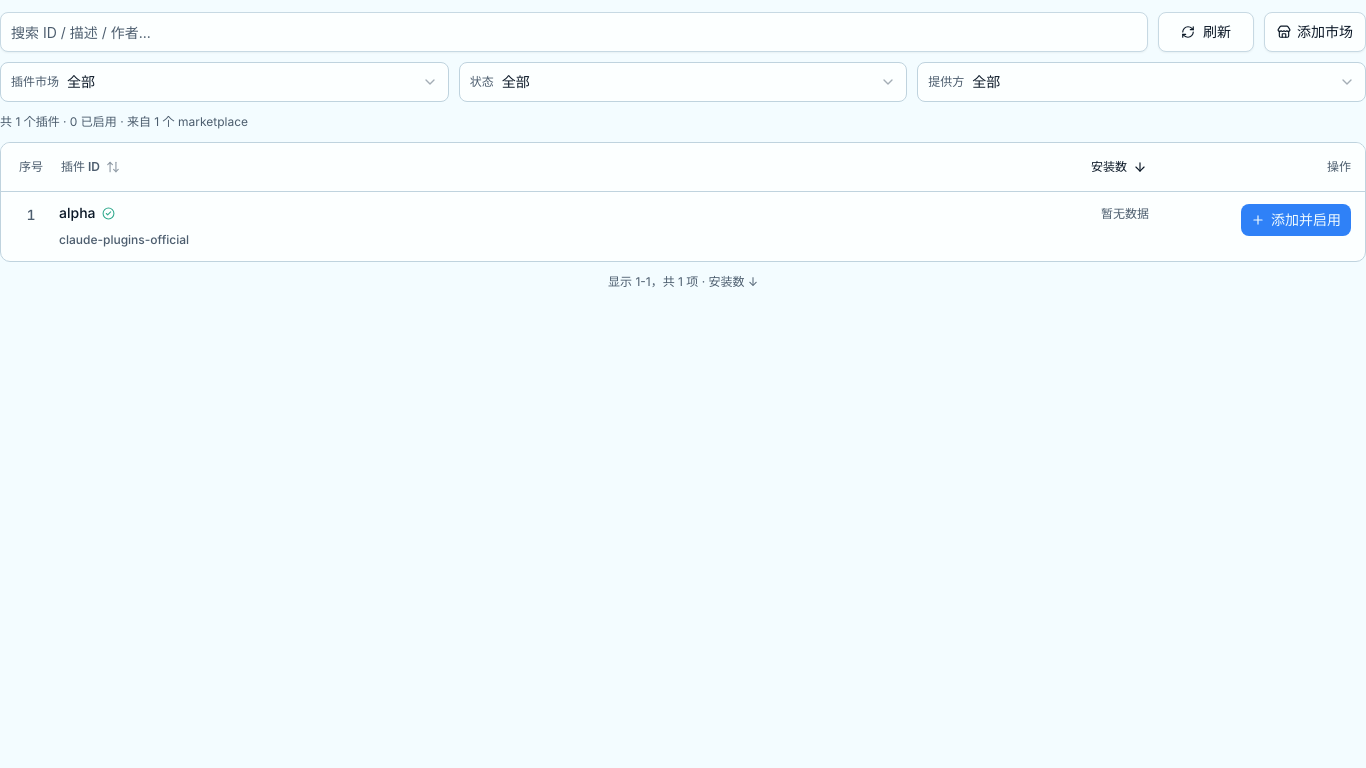
BrowseMarketplaceTab › 快速添加市场：manifest 中的市场名已存在时内联报错且不写回
Expected: the text "alpha" is shown, [59, 204, 96, 224]
Click the button "添加市场" at {"x": 1315, "y": 32}, box [1264, 12, 1365, 52]
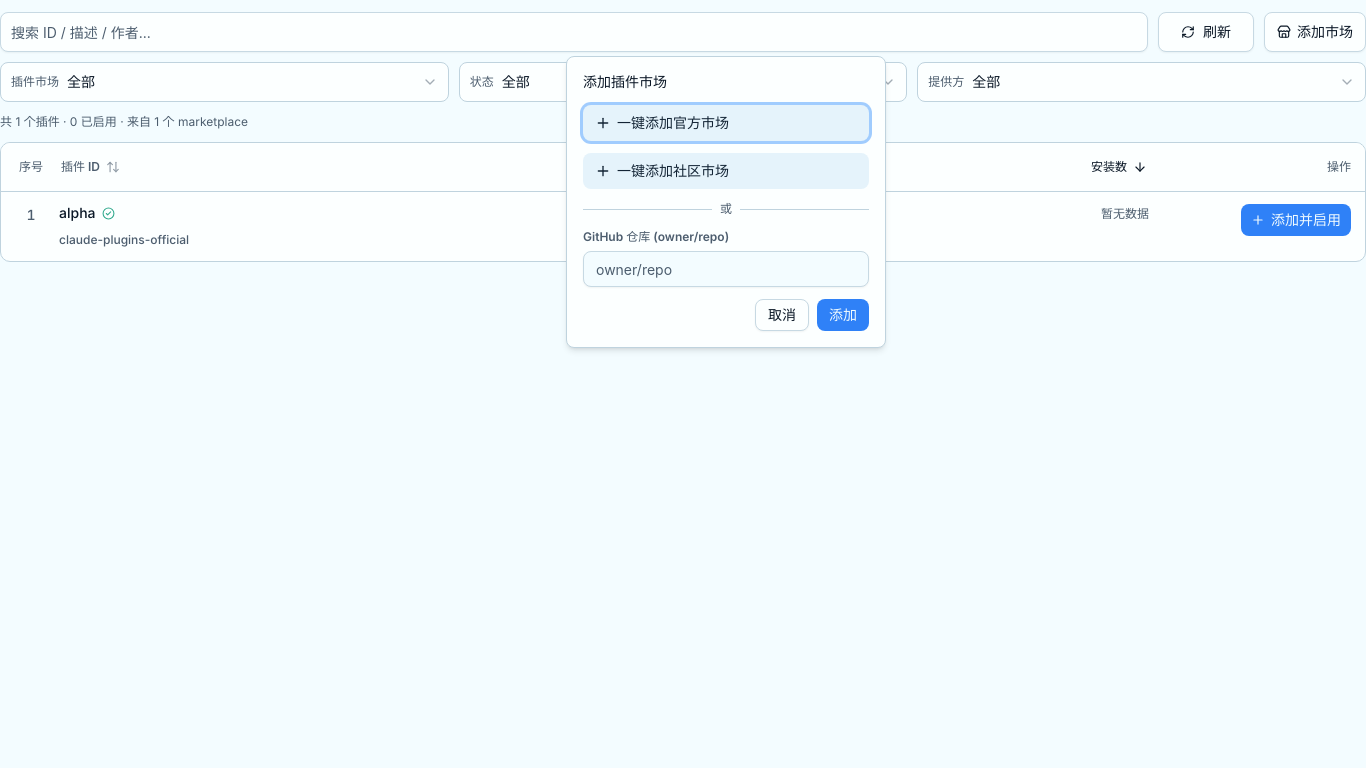
Type "acme/plugins" into the field labelled "GitHub 仓库 (owner/repo)" at {"x": 726, "y": 269}, box [583, 251, 869, 287]
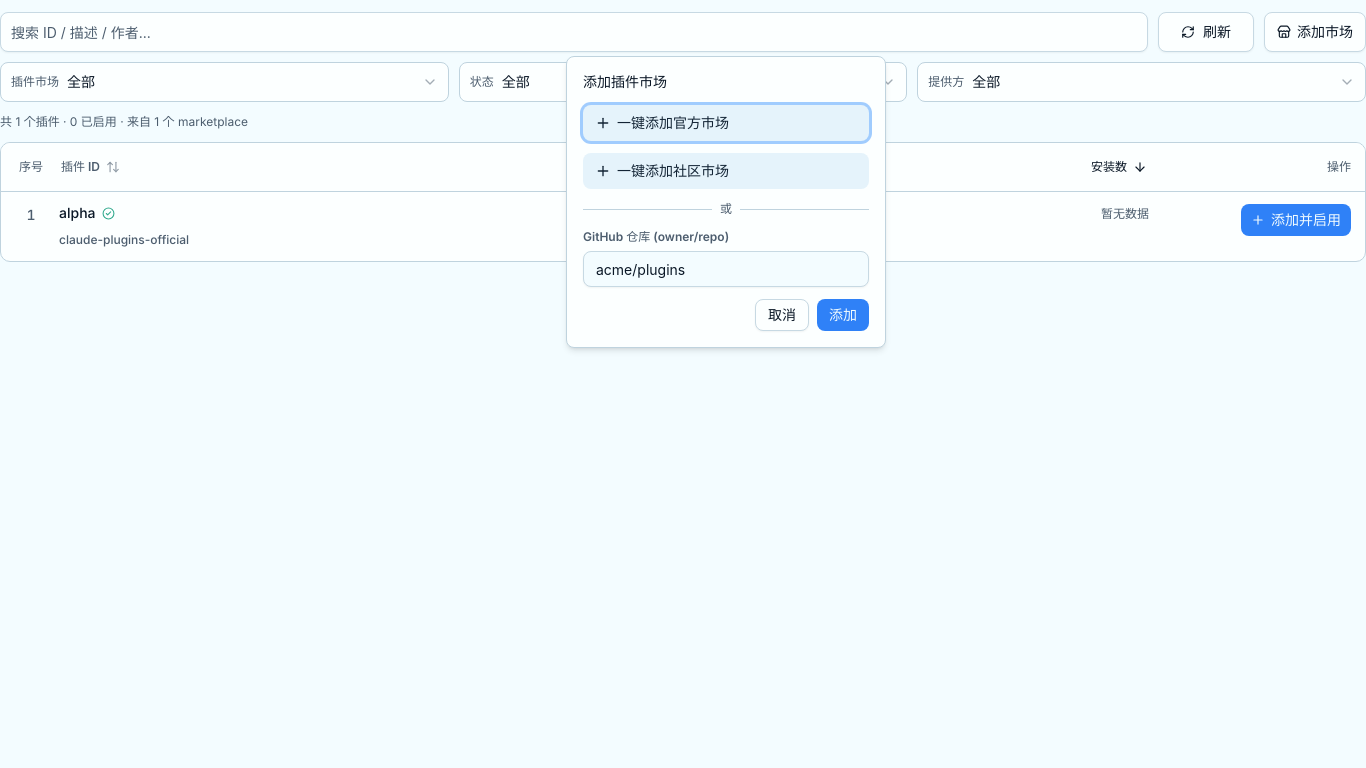
Click the button "添加" at {"x": 843, "y": 315}, box [817, 299, 869, 331]
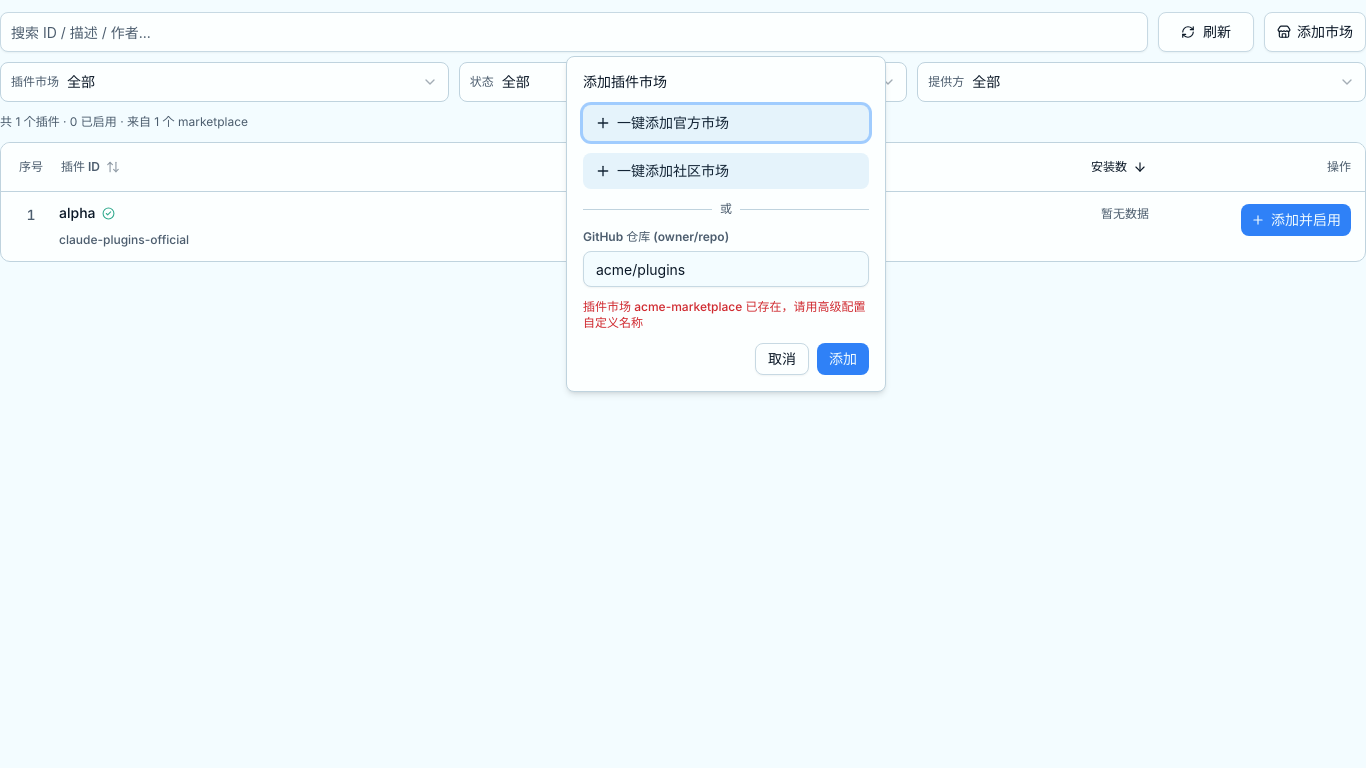
Now the text "插件市场 acme-marketplace 已存在，请用高级配置自定义名称" is shown, box [583, 299, 869, 331]
